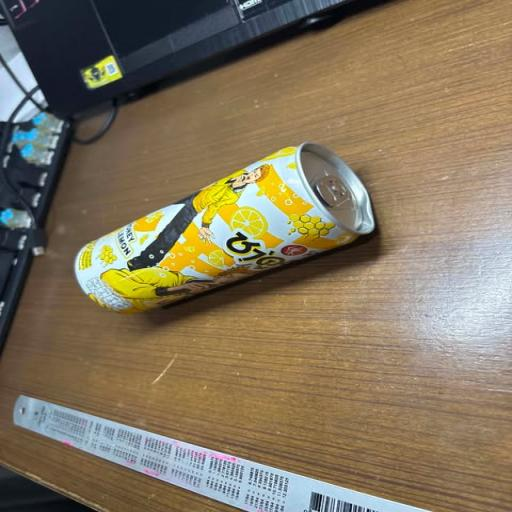canned: (46, 125, 410, 326)
